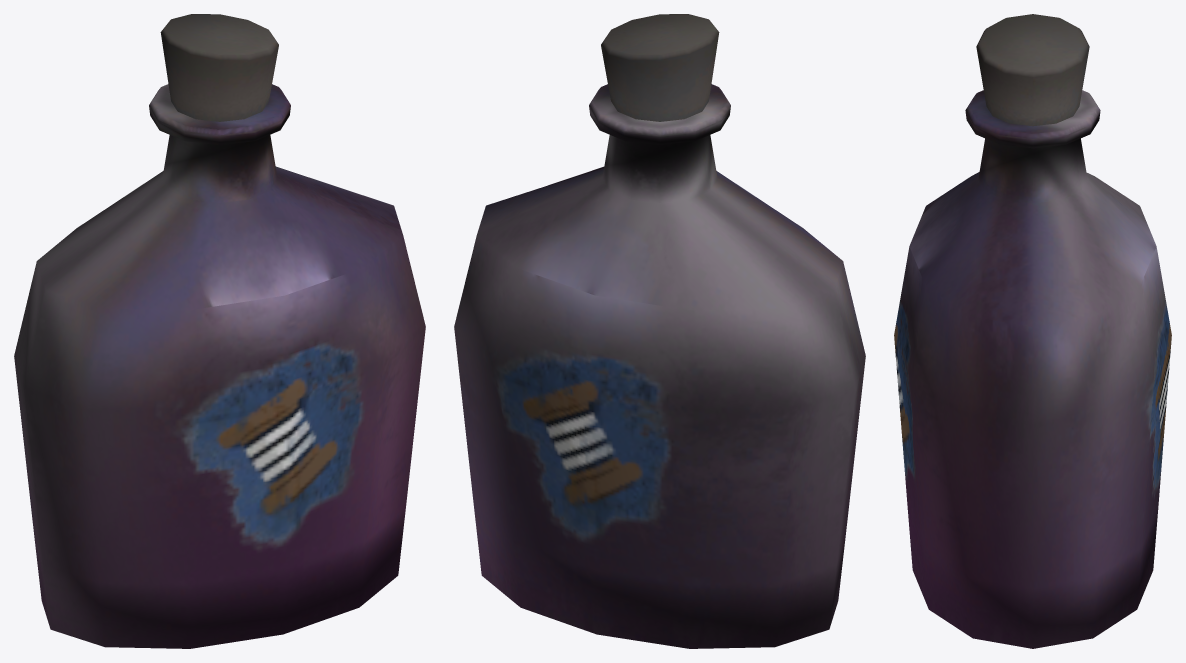
File: GeneralStore_Bottle_01.obj
3 views of the same model, side by side, from view 1: azimuth 30°, elevation 25°; view 2: azimuth 150°, elevation 25°; view 3: azimuth 270°, elevation 25° (orthographic). The views are drawn at different scales.
Visible parts, largest first — view 1: Model_GeneralStore_Bottle_01; view 2: Model_GeneralStore_Bottle_01; view 3: Model_GeneralStore_Bottle_01.
Part boxes in pixels (x1,y1,x2,y2): Model_GeneralStore_Bottle_01: [14, 14, 425, 648]; Model_GeneralStore_Bottle_01: [454, 14, 865, 648]; Model_GeneralStore_Bottle_01: [894, 14, 1171, 648].
Bounding box in the file's own units: 0.2657 × 0.3636 × 0.1716.
Materials: 1 (1 with a texture image).
